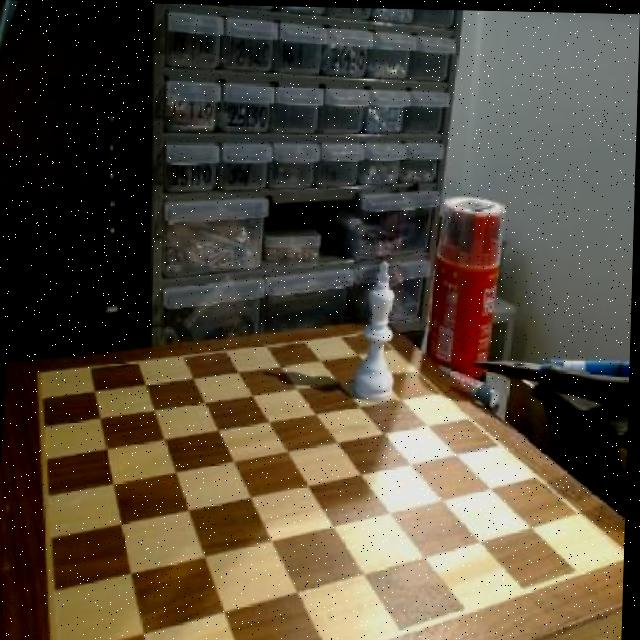white-bishop: (360, 258, 403, 403)
